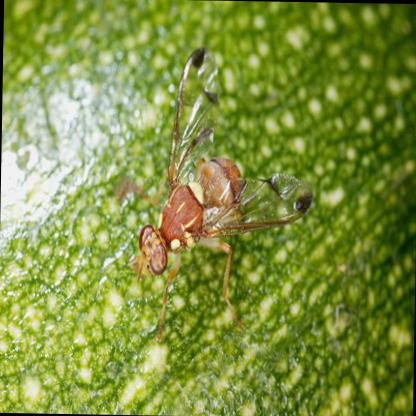fruit fly: (129, 49, 314, 299)
